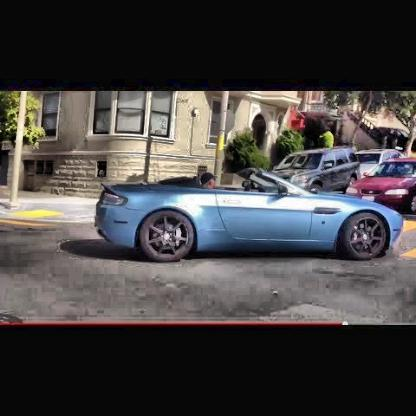Aston Martin V8 Vantage Convertible 2012: (96, 168, 407, 267)
